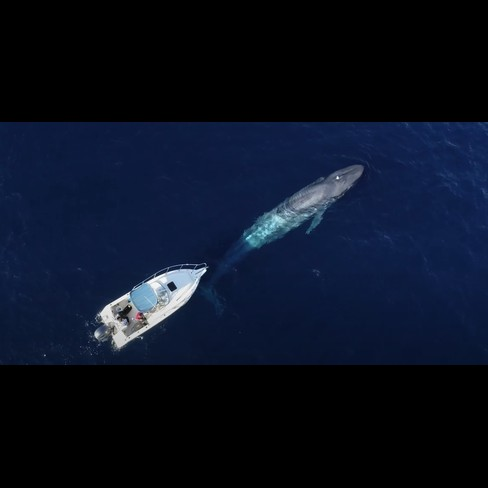bluewhale: (188, 155, 371, 320)
boat: (89, 257, 212, 356)
